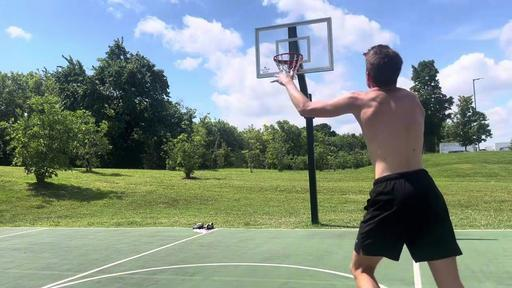human: (270, 44, 464, 288)
rim: (274, 52, 303, 79)
